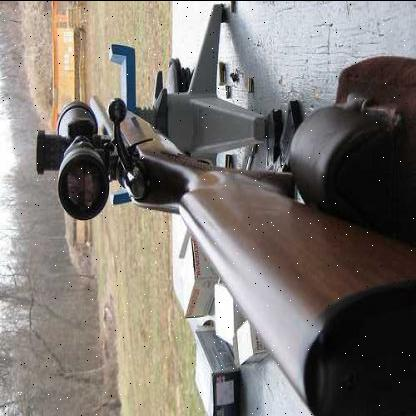rifle: (28, 69, 415, 416)
